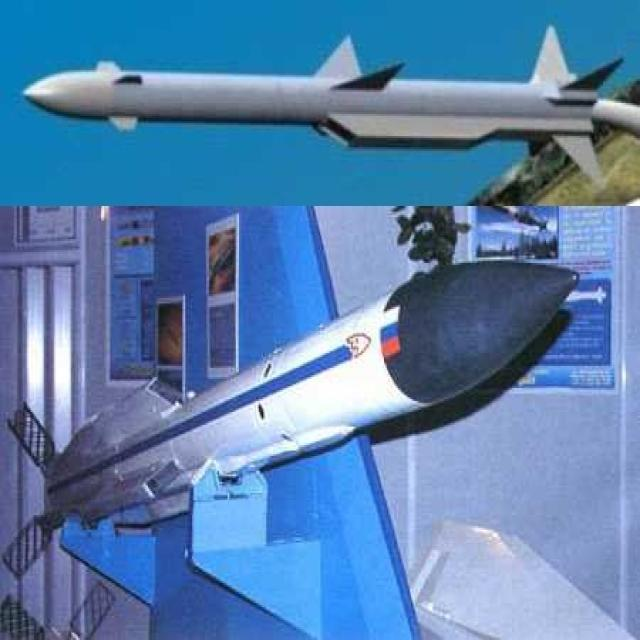missile: (5, 254, 582, 597), (24, 24, 618, 175)
